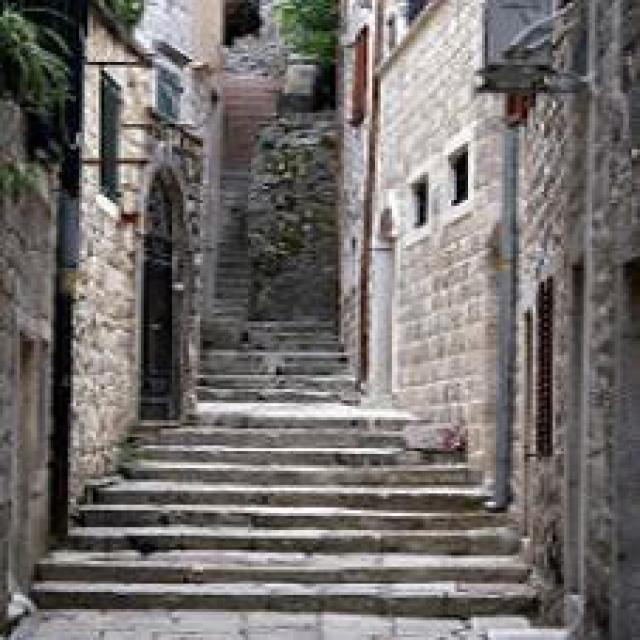upstair: (83, 404, 511, 610)
